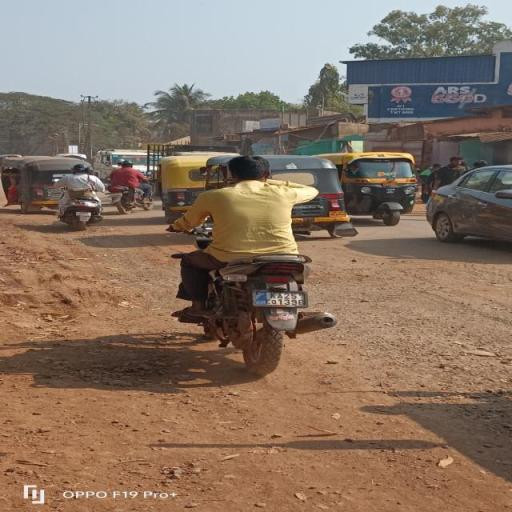bike: (162, 150, 340, 376)
numberplate: (256, 290, 306, 308)
withouthelmet: (229, 156, 267, 180)
